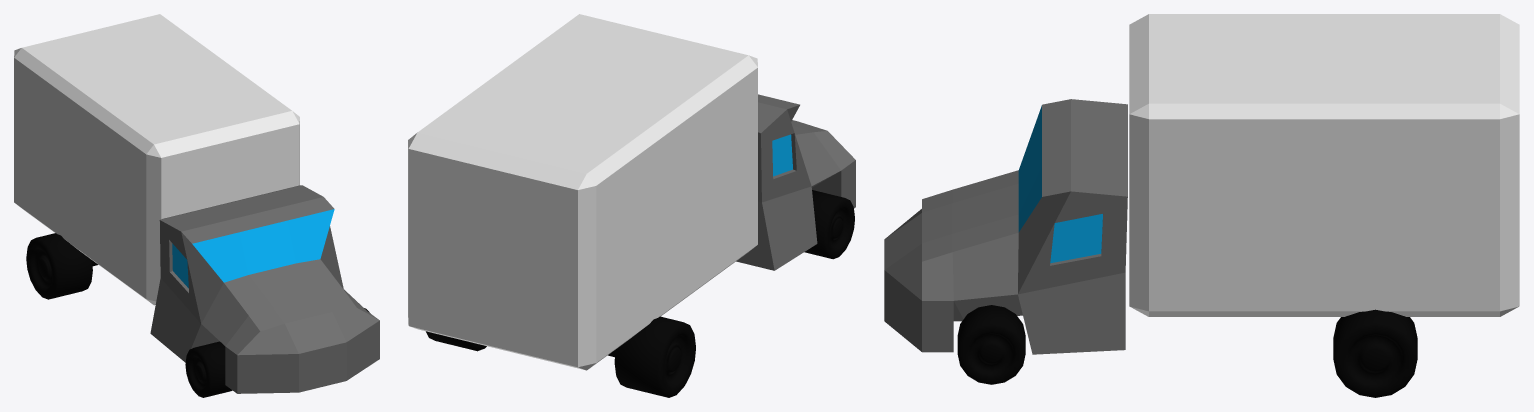
The model's file is Truck.fbx.
3 renders of one model, left to right at view 1: azimuth 30°, elevation 25°; view 2: azimuth 150°, elevation 25°; view 3: azimuth 270°, elevation 25°, orthographic. The views are drawn at different scales.
Parts seen in each view (by area): view 1: Trailer, Truck, BackWheel, FrontWheel; view 2: Trailer, Truck, BackWheel, FrontWheel; view 3: Trailer, Truck, BackWheel, FrontWheel.
Boxes of the visible parts, <box> form: Trailer: <box>14,14,299,305</box>; Truck: <box>150,185,379,393</box>; BackWheel: <box>26,233,92,299</box>; FrontWheel: <box>185,308,370,397</box>; Trailer: <box>408,14,757,370</box>; Truck: <box>736,94,855,270</box>; BackWheel: <box>426,316,695,397</box>; FrontWheel: <box>804,190,854,259</box>; Trailer: <box>1129,14,1519,316</box>; Truck: <box>884,99,1127,354</box>; BackWheel: <box>1333,309,1417,397</box>; FrontWheel: <box>957,305,1025,384</box>.
Size of the model in its own units: 698 by 717 by 1488.
1 material, 1 textured.
